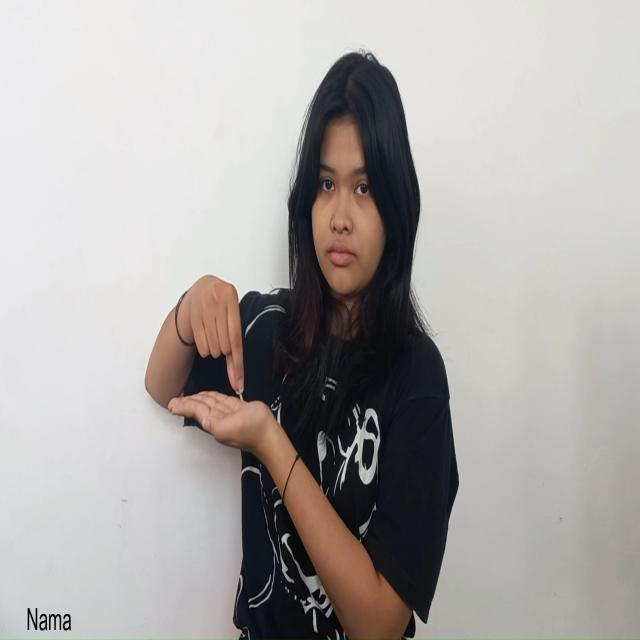Nama -BISINDO-: (165, 271, 271, 461)
